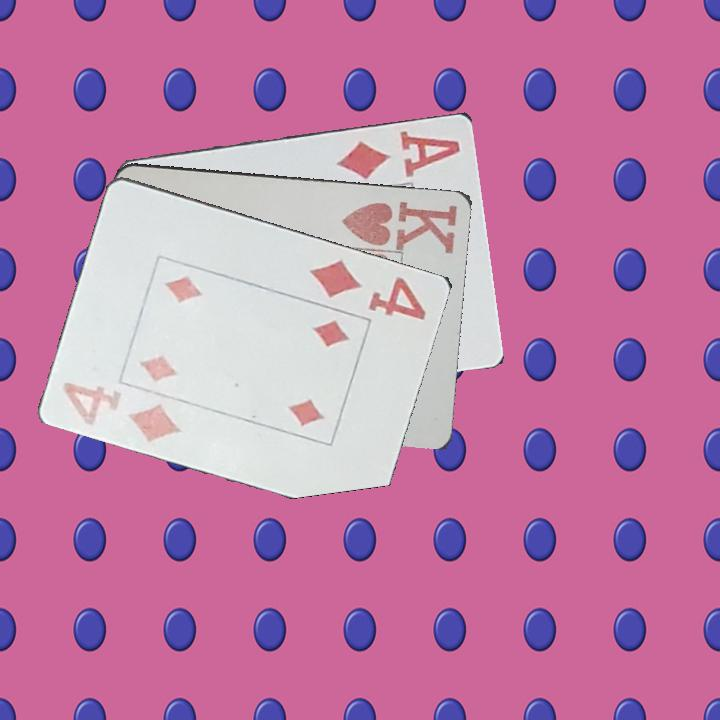4d: (306, 254, 430, 323), (59, 378, 185, 445)
Ad: (333, 126, 463, 182)
Kh: (339, 197, 461, 253)
